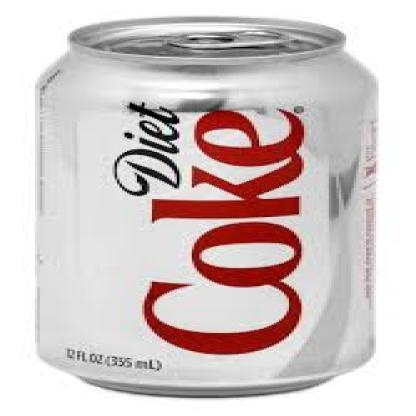trash: (36, 17, 376, 395)
